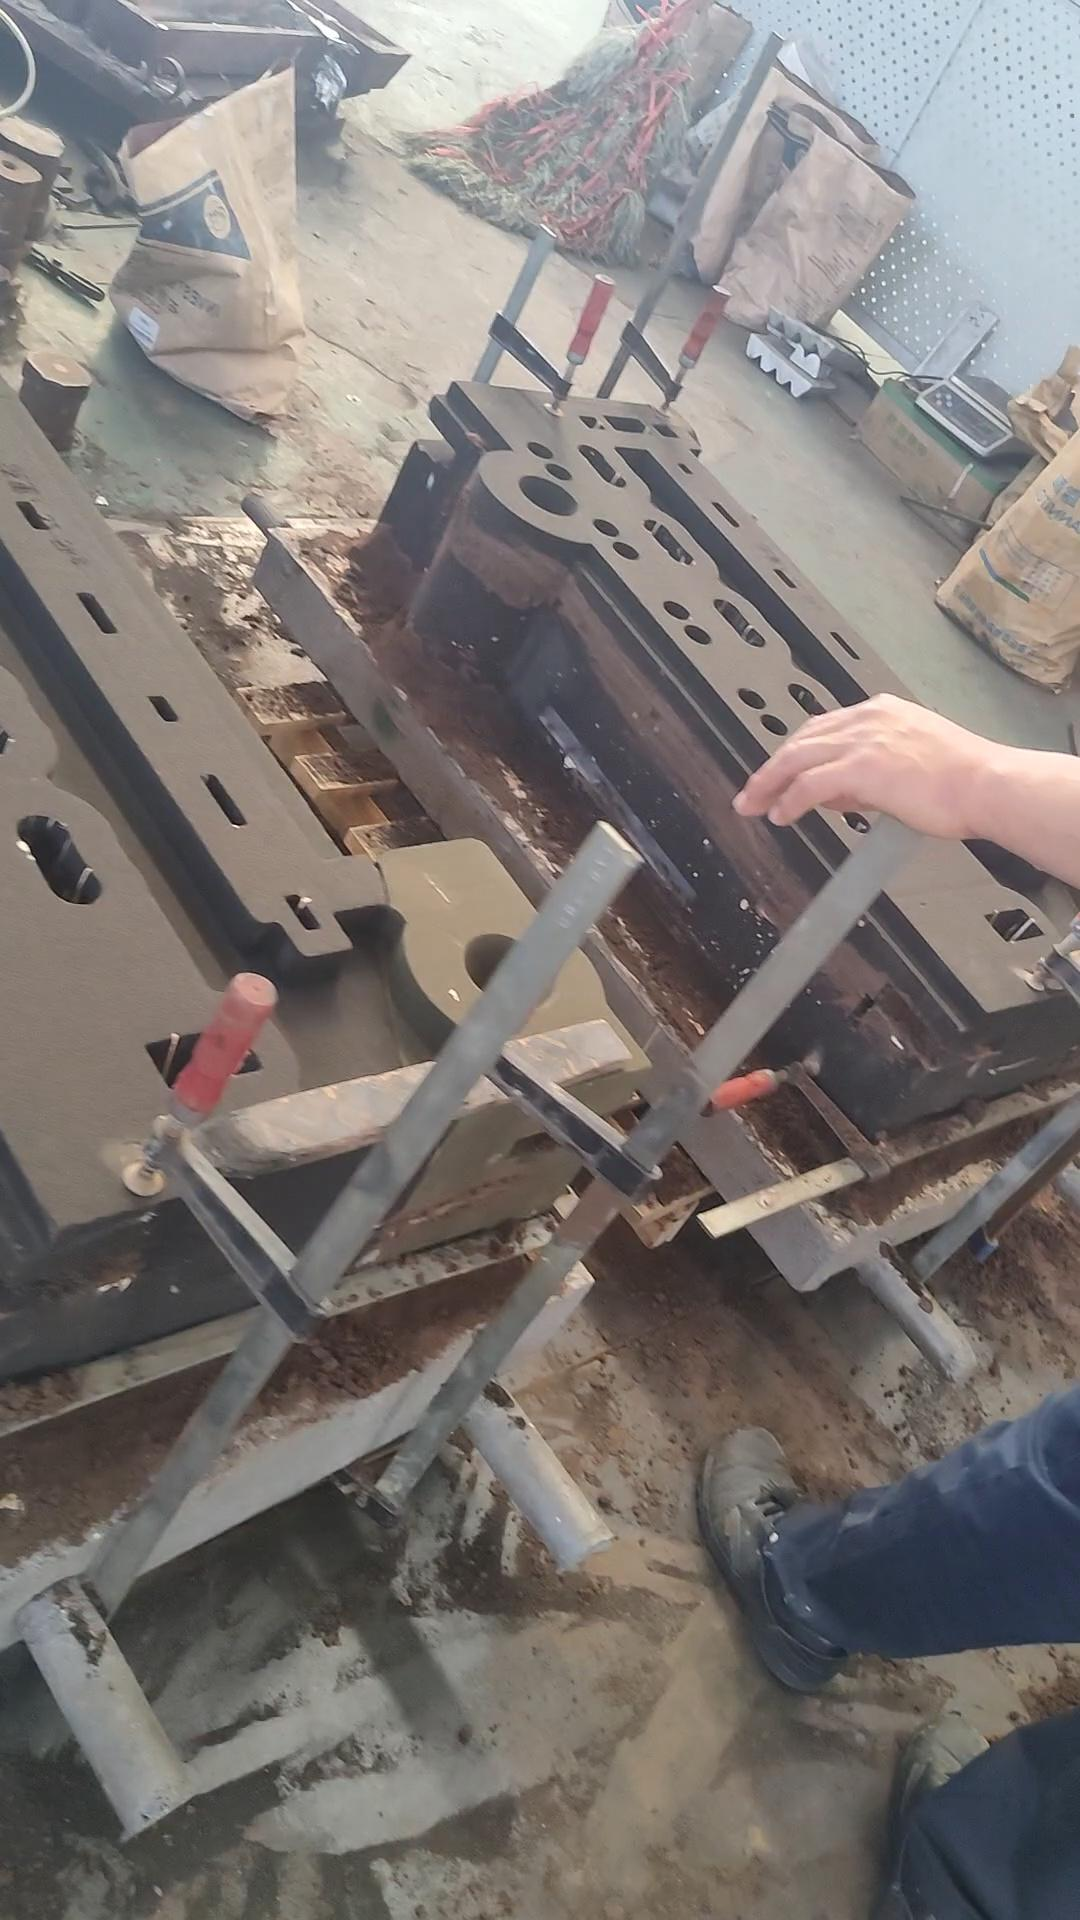pouring hole: (463, 932, 556, 1006), (517, 473, 579, 517)
